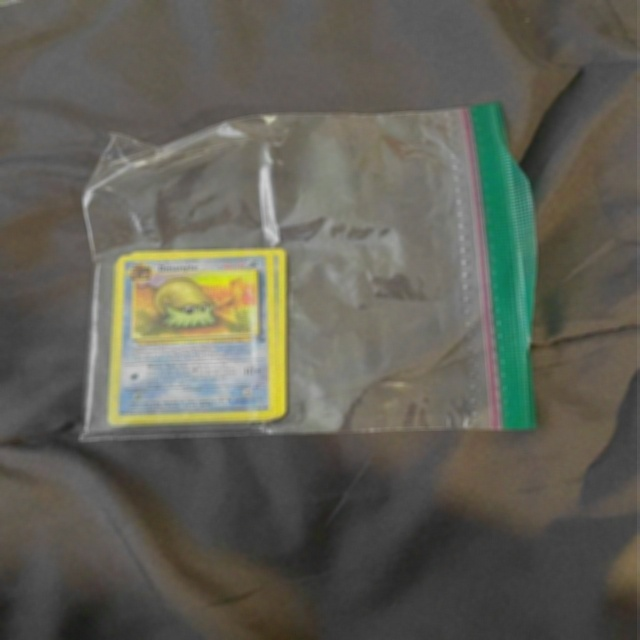card: (109, 250, 280, 423)
